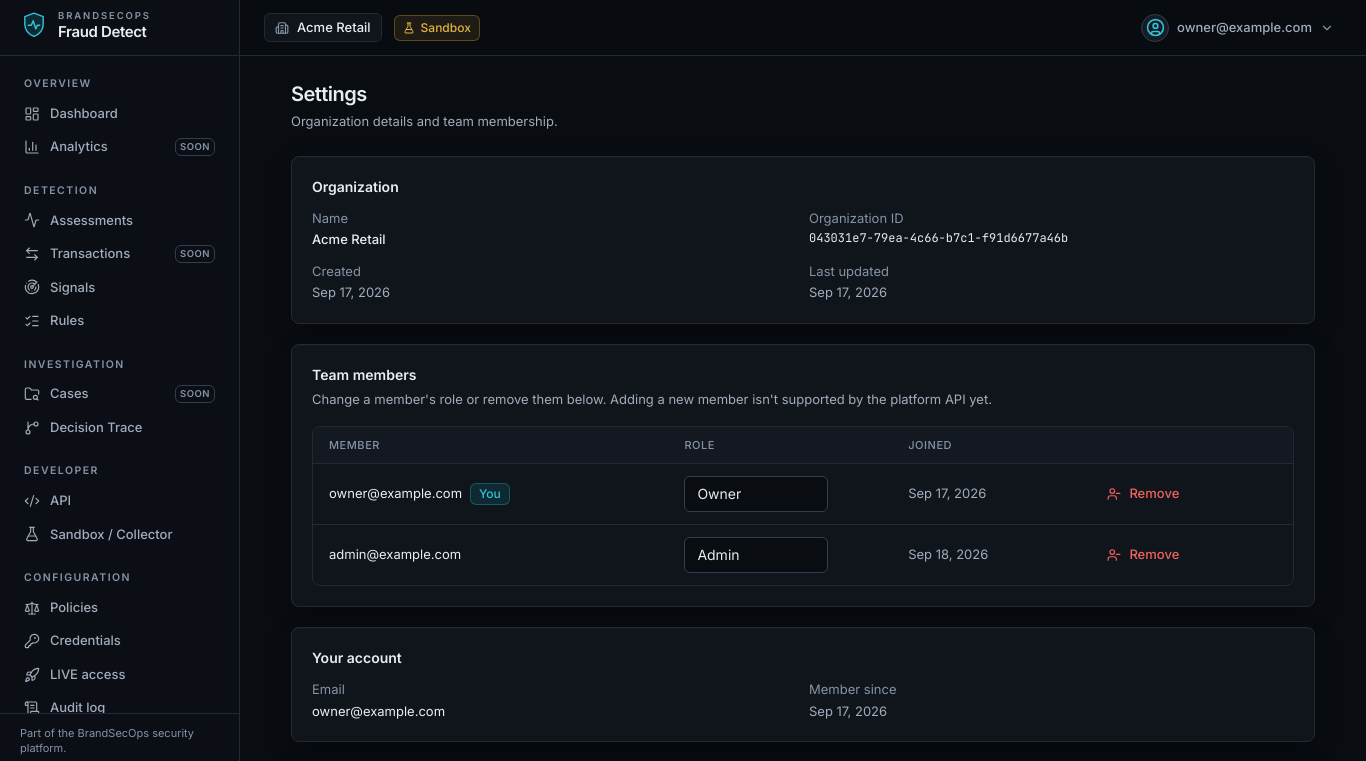
settings: team members management (Wave 39) › a failed role change shows an error message instead of silently doing nothing
Expected: the text "admin@example.com" is shown, 329,546 -> 461,562
Select "Owner" in the dropdown named "Role for admin@example.com" at (756, 555), box 684,537 -> 828,573
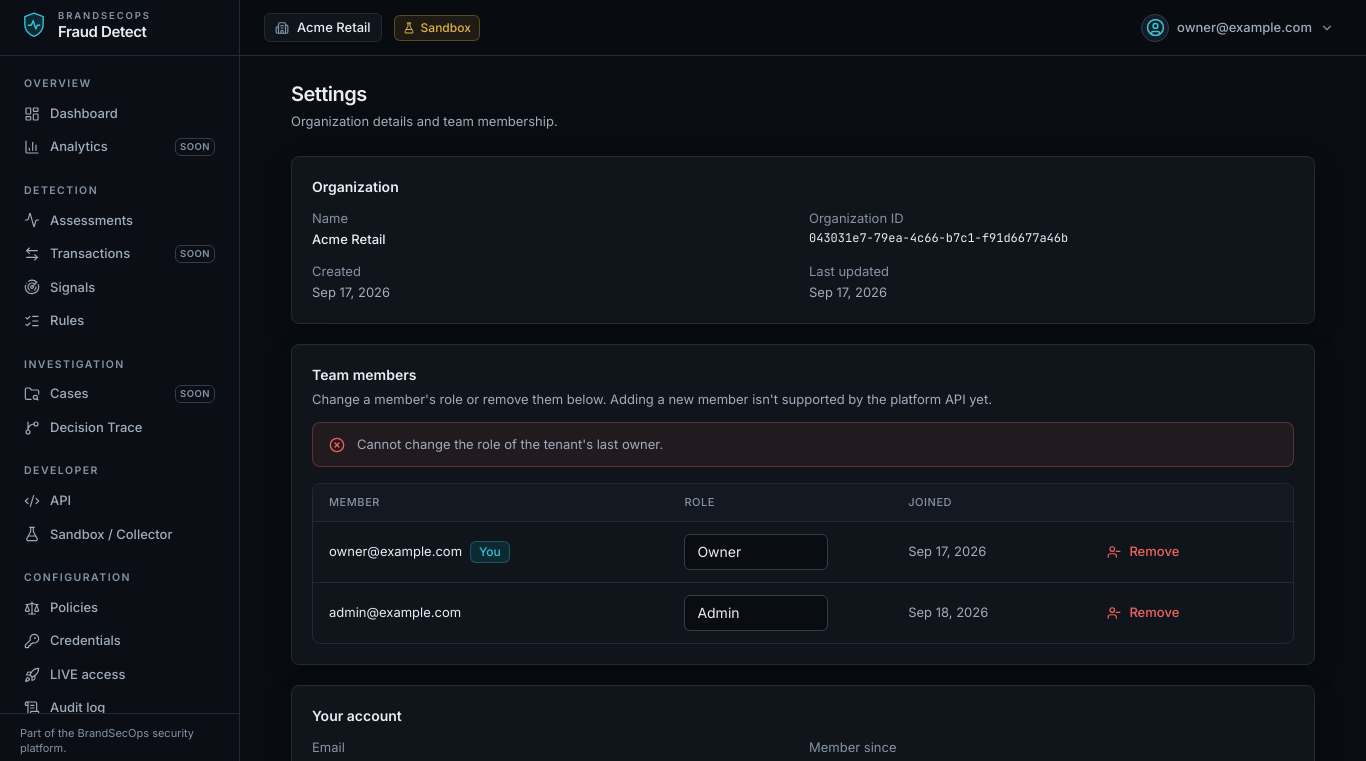
Now the text "Cannot change the role of the tenant's last owner." is shown, box 357,435 -> 663,454
